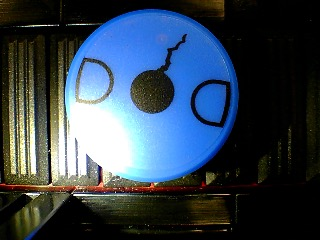CRACK: (64, 9, 238, 181)
